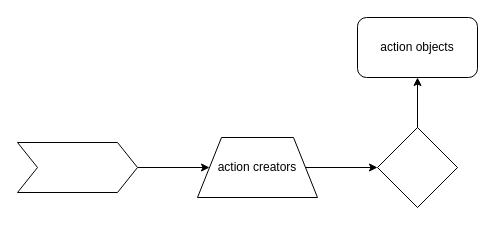
Some shapes in this 495 by 225 pixel diagram are drawn without their labels. The shapes that lost their labels are listed below. From the top down, each one's centre as x and y in pixels, then its label:
pixel 77 167: reducer
pixel 417 167: actions
